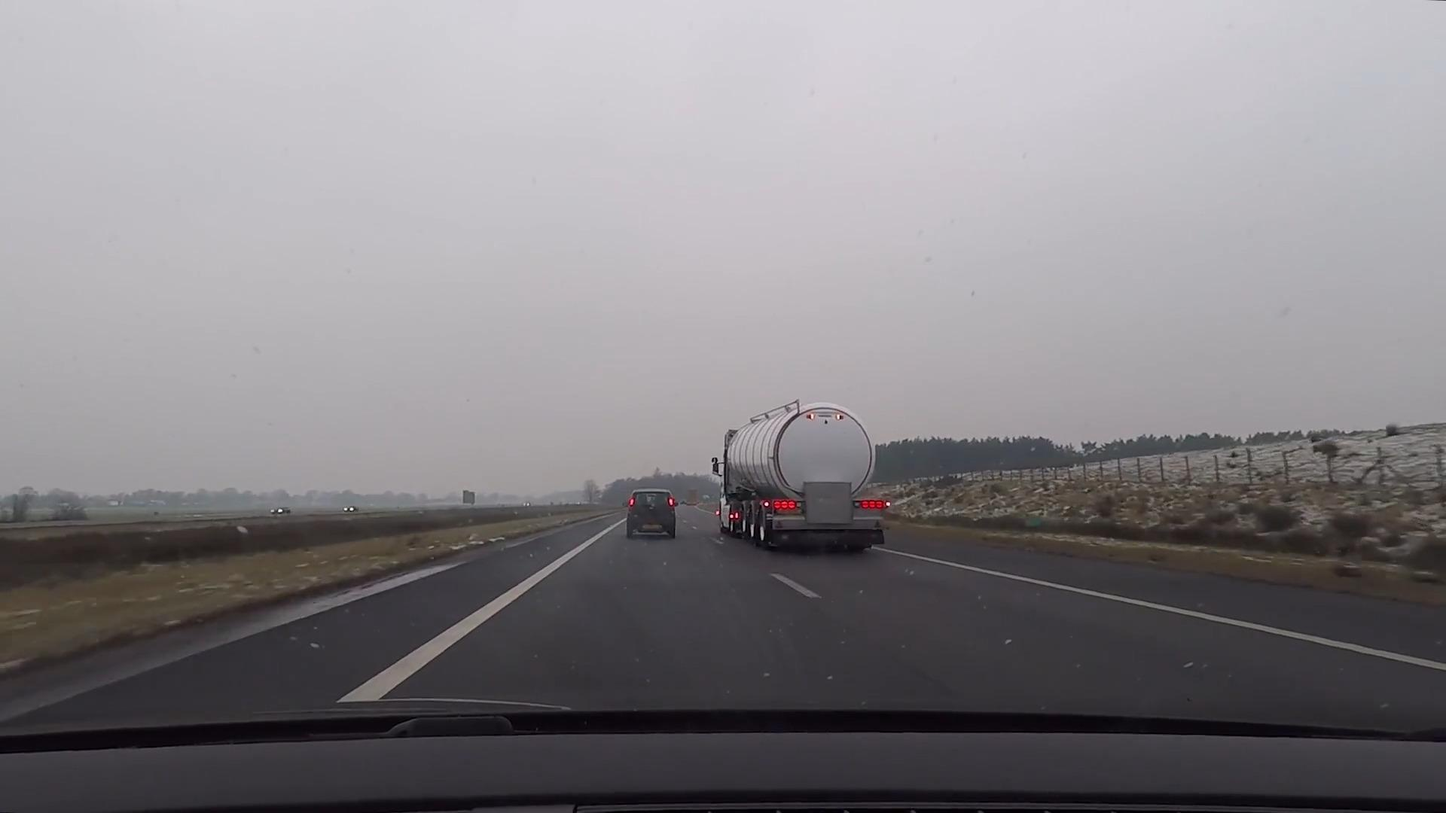dry: (0, 504, 1446, 730)
